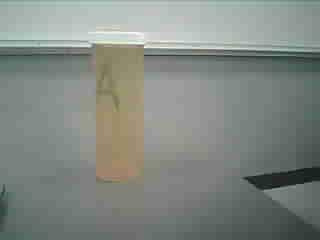Bottle A: (74, 20, 172, 199)
